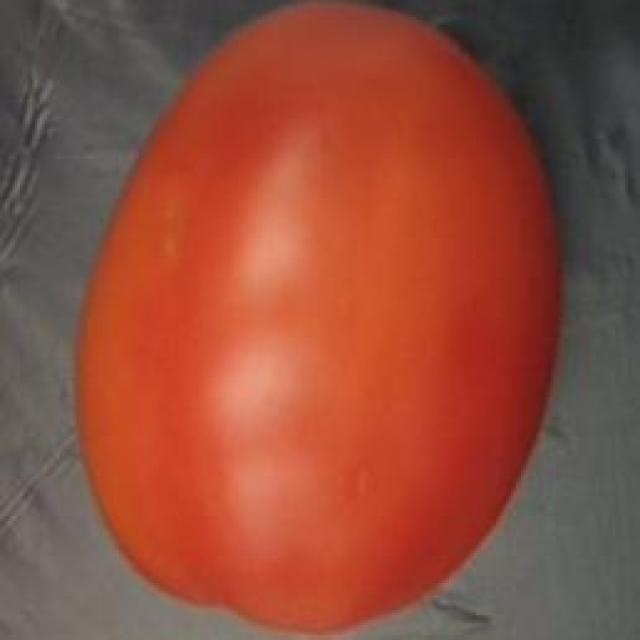ripe tomato: (59, 2, 580, 640)
